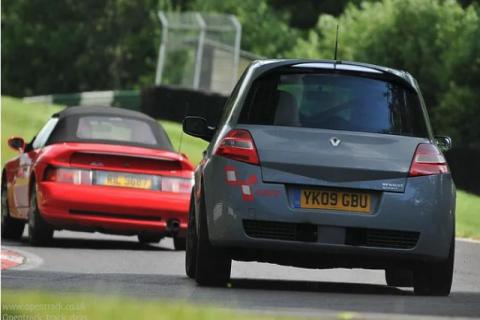LicensePlate: (293, 188, 370, 212), (91, 171, 159, 189)
